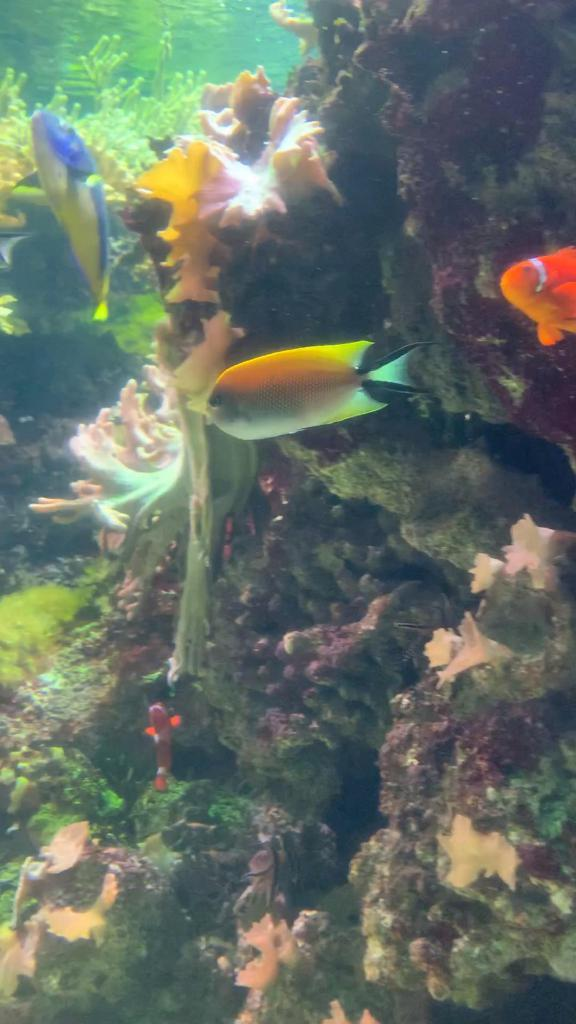fish: (204, 338, 440, 442), (18, 108, 114, 322), (497, 244, 575, 348), (144, 701, 182, 793)
